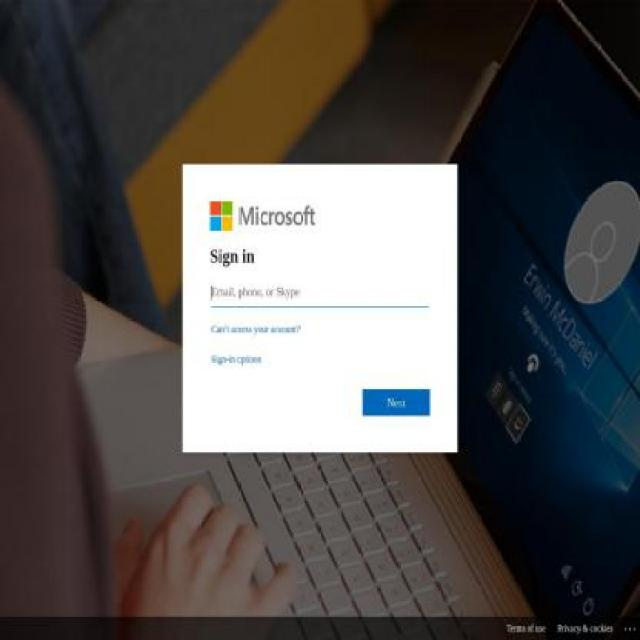button: (557, 617, 614, 638), (507, 617, 547, 638), (624, 617, 636, 638)
field: (211, 278, 429, 308), (362, 389, 430, 417)
